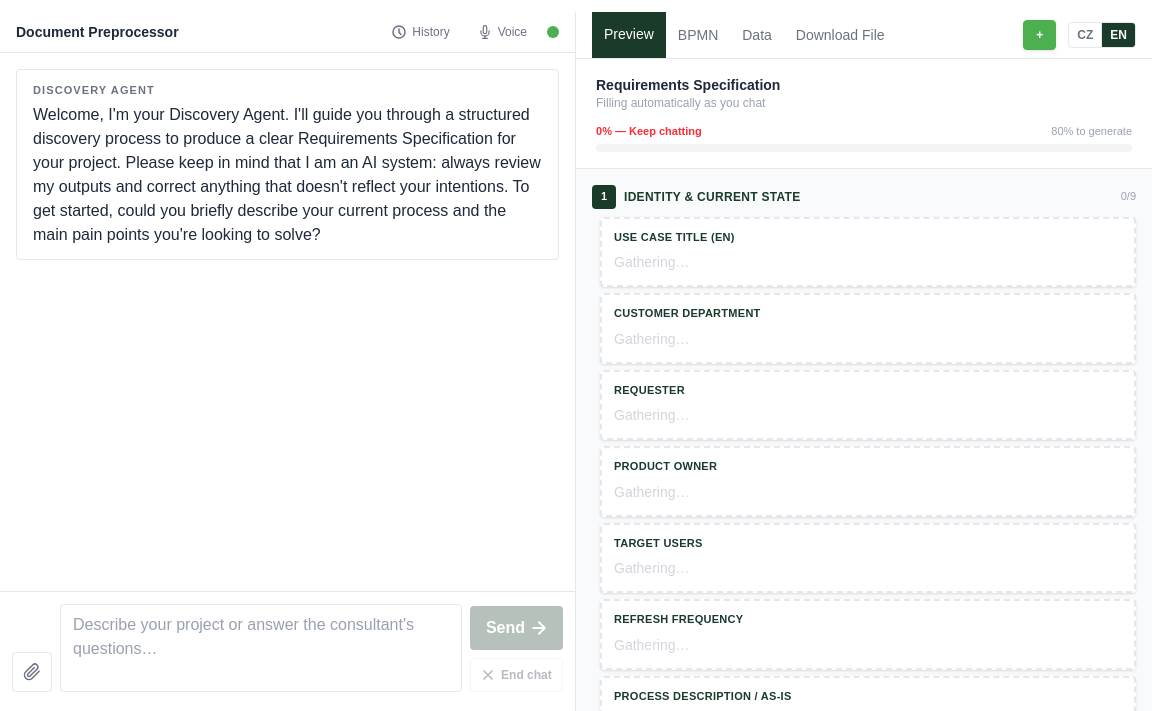
Test: ChatPage — message rendering › shows user message bubble after sending
Type "I want to automate sales reports." into the text box with placeholder "Describe your project or answer the consultant's questions…" at x=261, y=648, box [60,604,462,692]
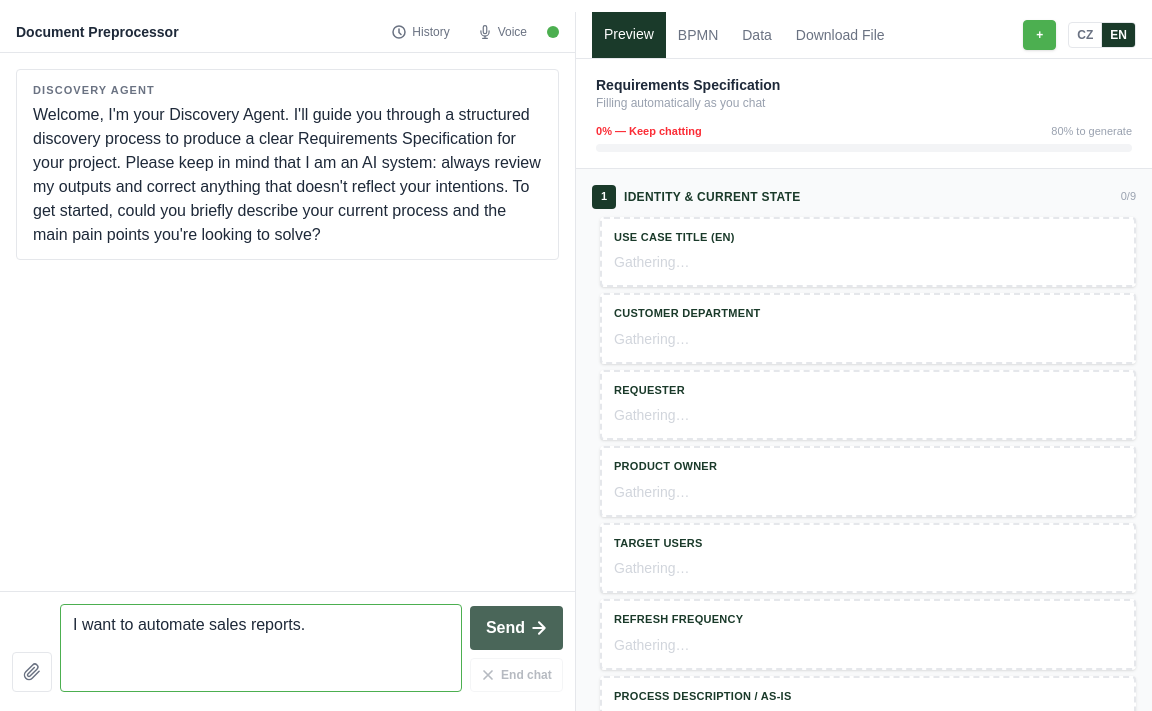
Click the button "Send" at x=516, y=628, box [470,606,563,650]
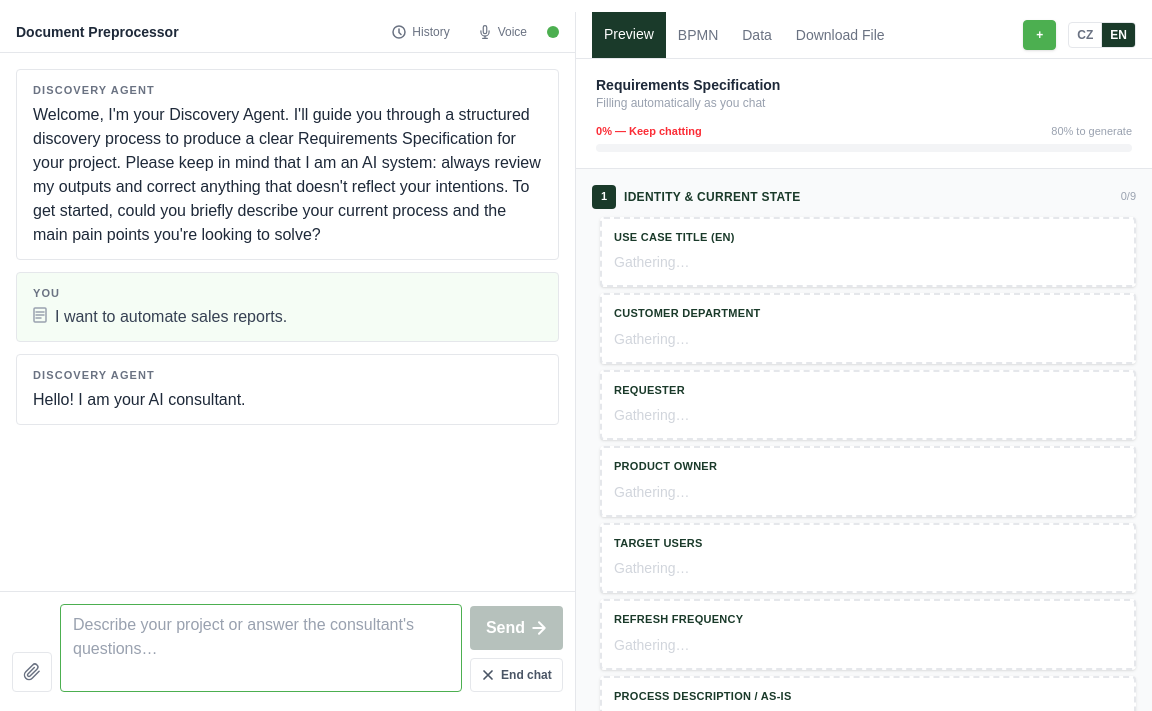
Now the text "I want to automate sales reports." is shown, box [55,305,287,329]
